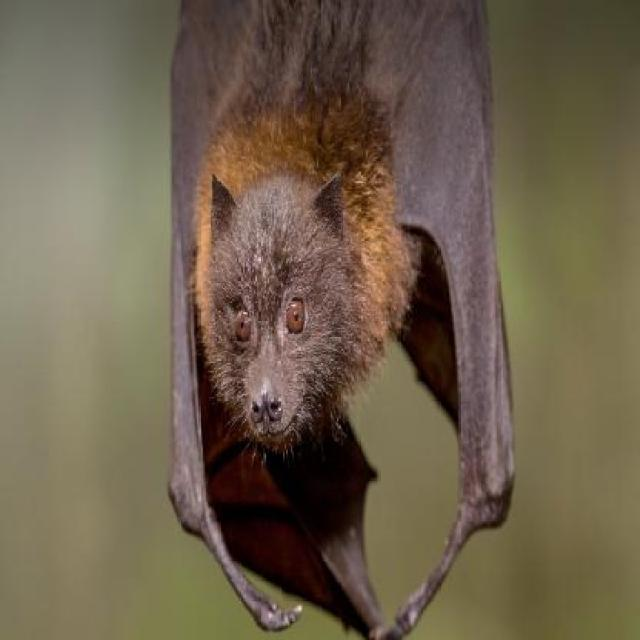Bat: (157, 0, 520, 628)
